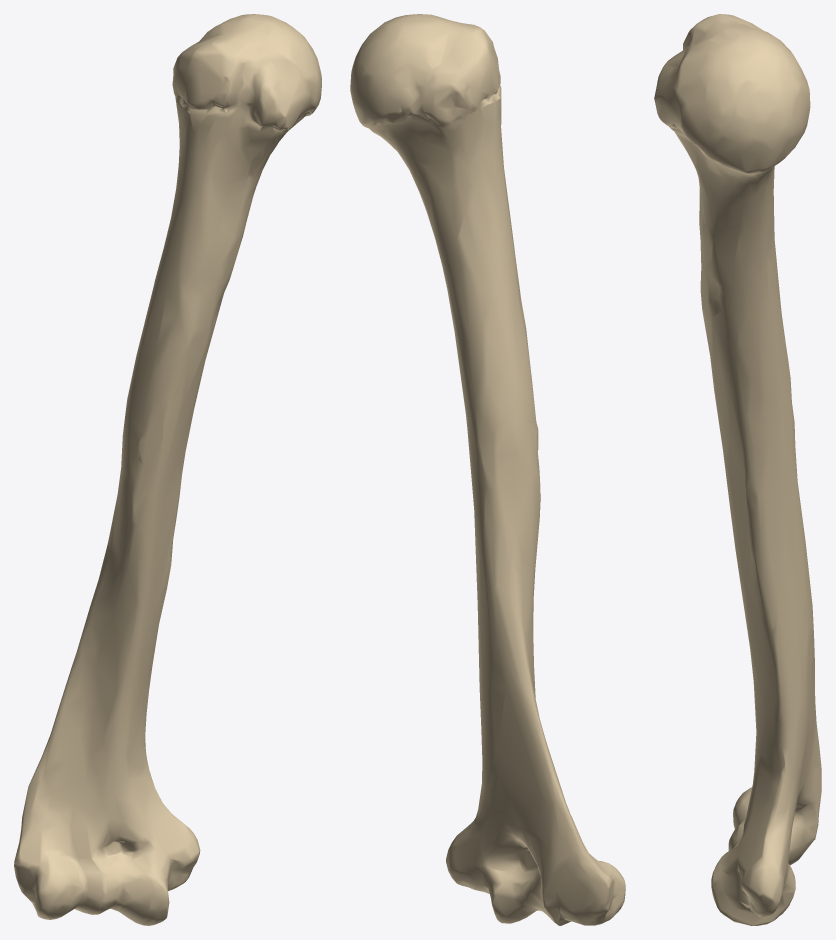
Rendered from r-humerus.glb.
3 views of the same model, side by side, from view 1: azimuth 30°, elevation 25°; view 2: azimuth 150°, elevation 25°; view 3: azimuth 270°, elevation 25° (orthographic). The views are drawn at different scales.
Parts seen in each view (by area): view 1: right-humerus; view 2: right-humerus; view 3: right-humerus.
Part boxes in pixels (x1,y1,x2,y2): right-humerus: (14,14,321,925); right-humerus: (350,14,625,925); right-humerus: (654,14,821,925).
Size of the model in its own units: 0.2517 by 0.7686 by 0.1238.
